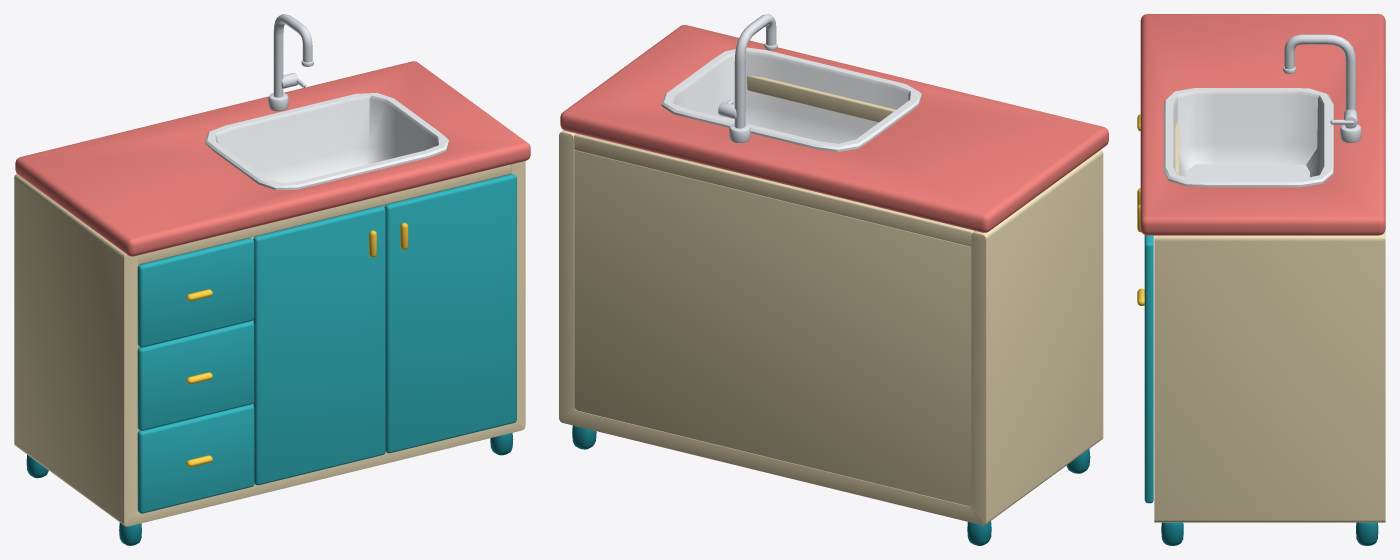
File: armario_cozinha_pia_moderna_coral.glb
The picture shows the model from 3 angles, left to right: view 1: azimuth 30°, elevation 25°; view 2: azimuth 150°, elevation 25°; view 3: azimuth 270°, elevation 25°; orthographic projection. The views are drawn at different scales.
Parts seen in each view (by area): view 1: armario_cozinha_pia_moderna_coral, porta_1, porta_2, gaveta_1, gaveta_2, gaveta_3; view 2: armario_cozinha_pia_moderna_coral; view 3: armario_cozinha_pia_moderna_coral, porta_2.
Boxes of the visible parts, x1,y1,x2,y2 form: armario_cozinha_pia_moderna_coral: (14, 14, 530, 545); porta_1: (253, 206, 385, 485); porta_2: (384, 174, 516, 453); gaveta_1: (137, 238, 254, 347); gaveta_2: (137, 321, 254, 430); gaveta_3: (137, 404, 254, 513); armario_cozinha_pia_moderna_coral: (559, 14, 1108, 545); armario_cozinha_pia_moderna_coral: (1140, 14, 1385, 545); porta_2: (1137, 204, 1153, 503).
Bounding box in the file's own units: 1.2 × 1.18 × 0.607.
1 material, 1 textured.
